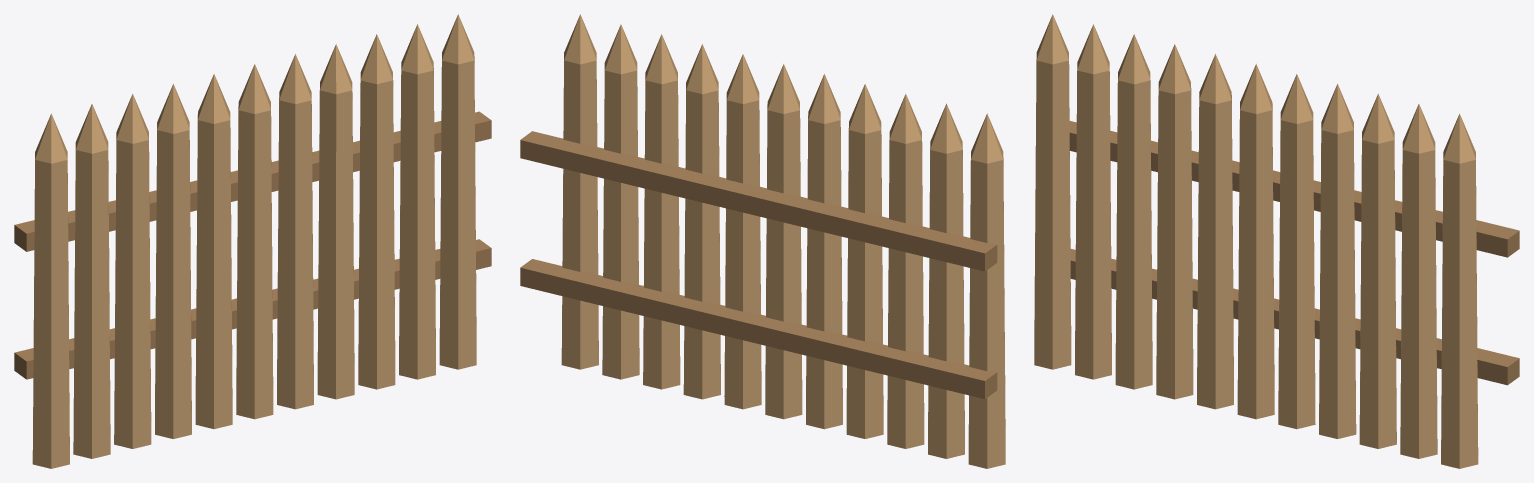
Rendered from palisade-straight.glb.
3 views of the same model, side by side, from view 1: azimuth 30°, elevation 25°; view 2: azimuth 150°, elevation 25°; view 3: azimuth 330°, elevation 25° (orthographic).
Visible parts, largest first — view 1: palisade-straight; view 2: palisade-straight; view 3: palisade-straight.
Boxes of the visible parts, x1,y1,x2,y2 form: palisade-straight: (14,14,491,468); palisade-straight: (520,14,1005,468); palisade-straight: (1034,14,1519,468).
Bounding box in the file's own units: 4.01 × 2.85 × 0.4286.
